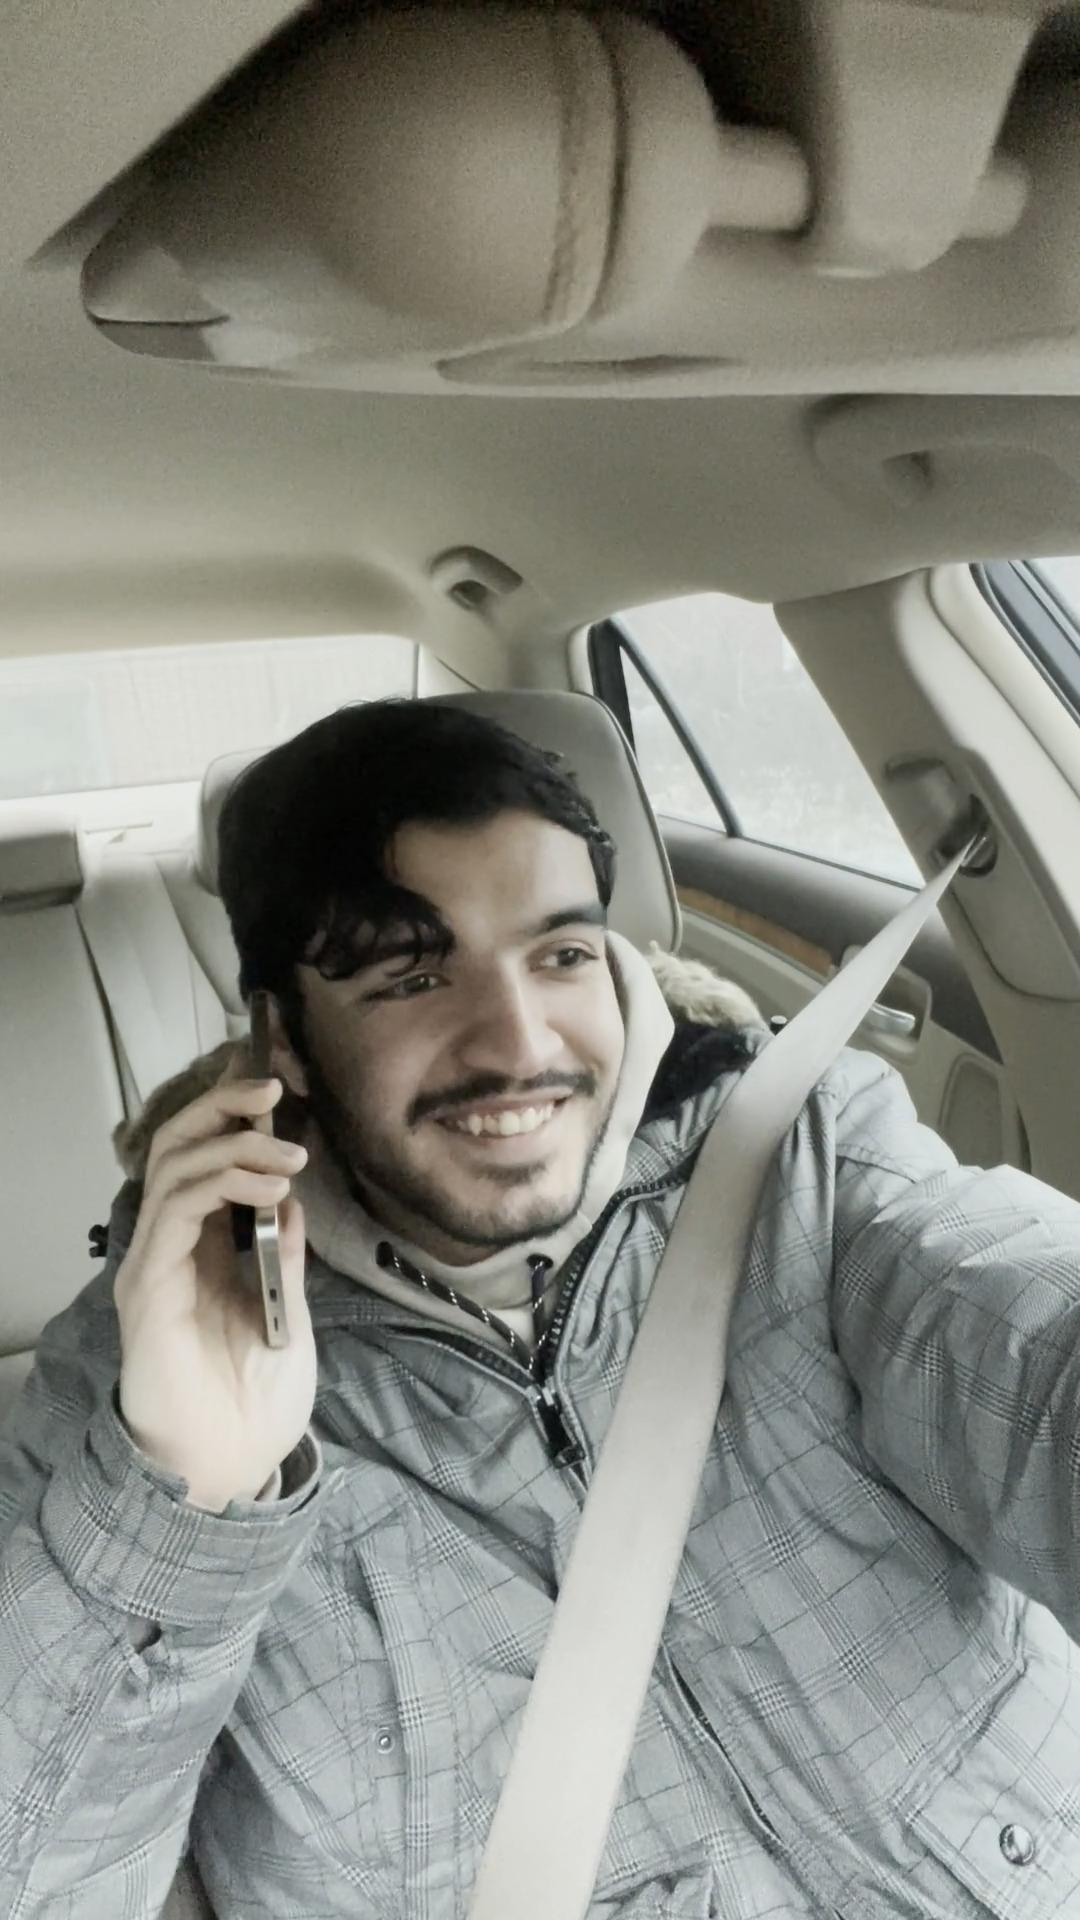mobile: (215, 988, 315, 1375)
seatbelt: (315, 1340, 880, 1920)
